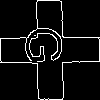G: (25, 25, 72, 65)
